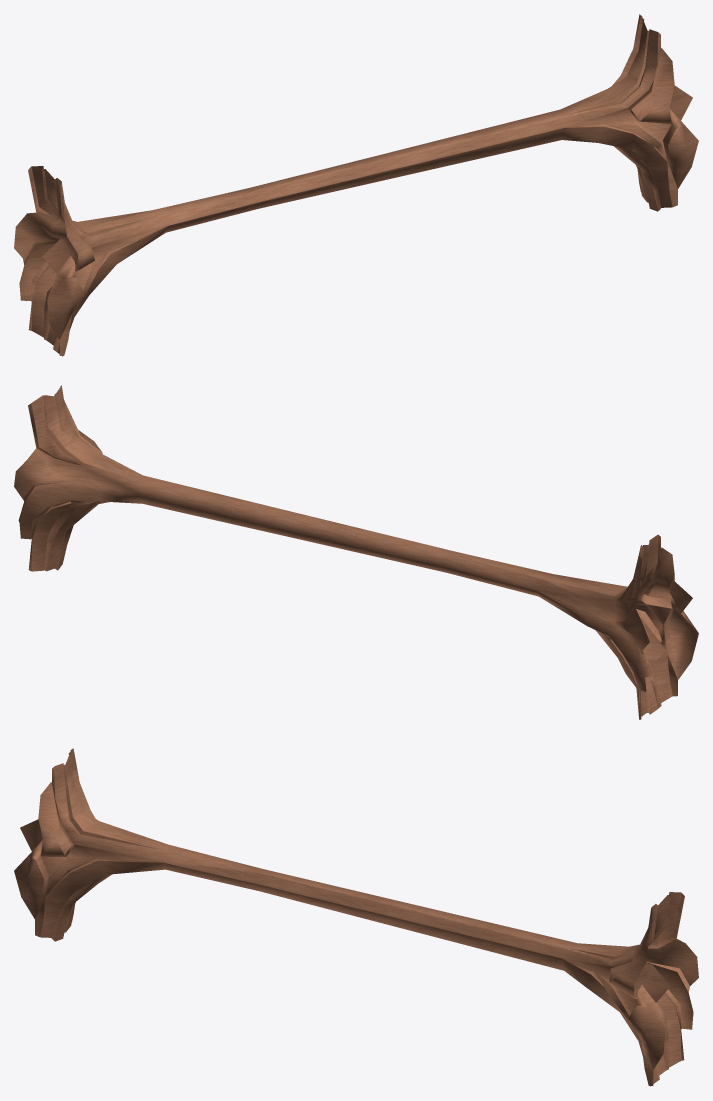
The model's file is Geonosis_Pillar01_Bridge01.fbx.
3 views of the same model, one above another, from view 1: azimuth 30°, elevation 25°; view 2: azimuth 150°, elevation 25°; view 3: azimuth 330°, elevation 25° (orthographic).
Parts seen in each view (by area): view 1: Geonosis_Pillar01_Bridge01; view 2: Geonosis_Pillar01_Bridge01; view 3: Geonosis_Pillar01_Bridge01.
Part boxes in pixels (x1,y1,x2,y2): Geonosis_Pillar01_Bridge01: [14, 14, 698, 356]; Geonosis_Pillar01_Bridge01: [14, 385, 698, 719]; Geonosis_Pillar01_Bridge01: [14, 748, 698, 1086].
Size of the model in its own units: 1370 by 369 by 178.
